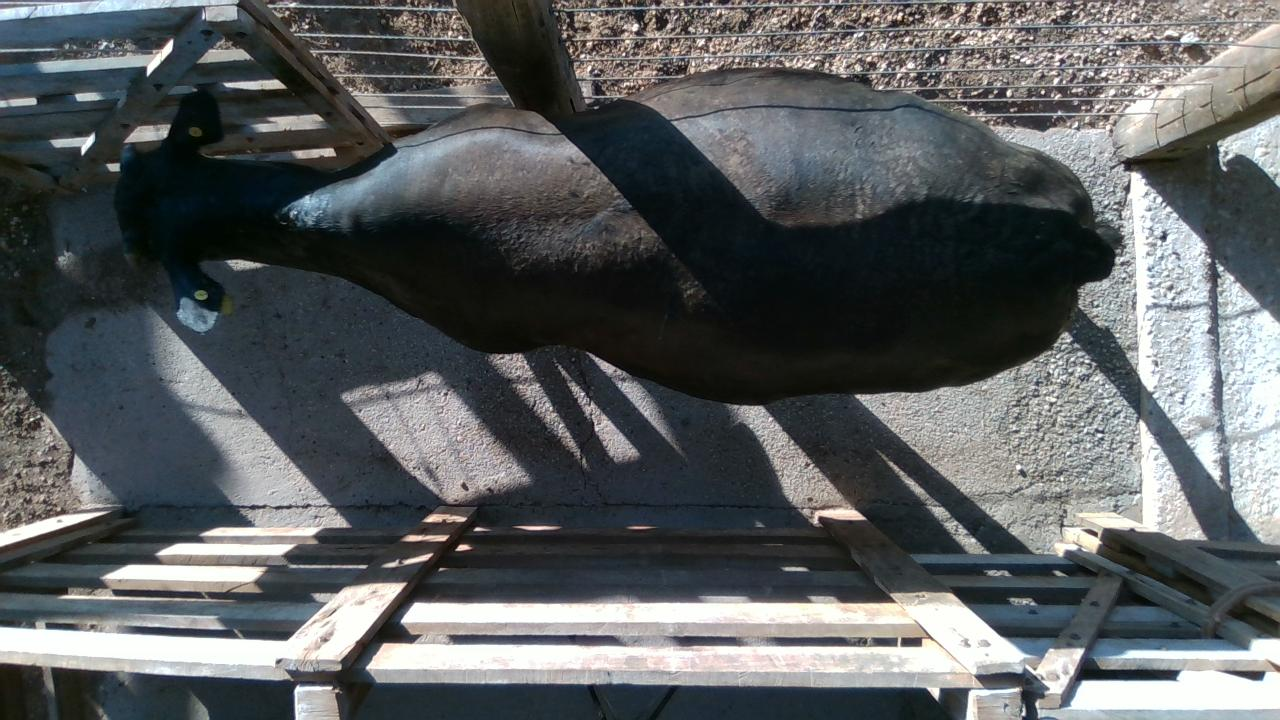cattle: (112, 64, 1121, 406)
